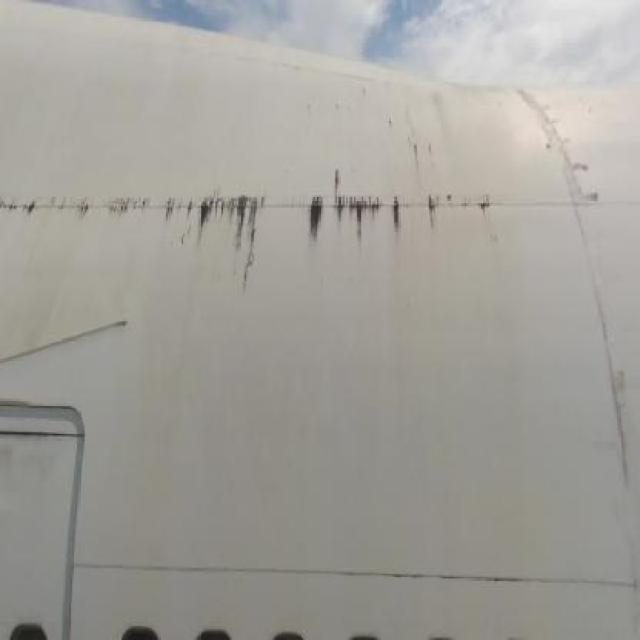Rust: (3, 170, 519, 296), (324, 71, 462, 186)
Scartch: (577, 222, 634, 500), (520, 83, 608, 202)
